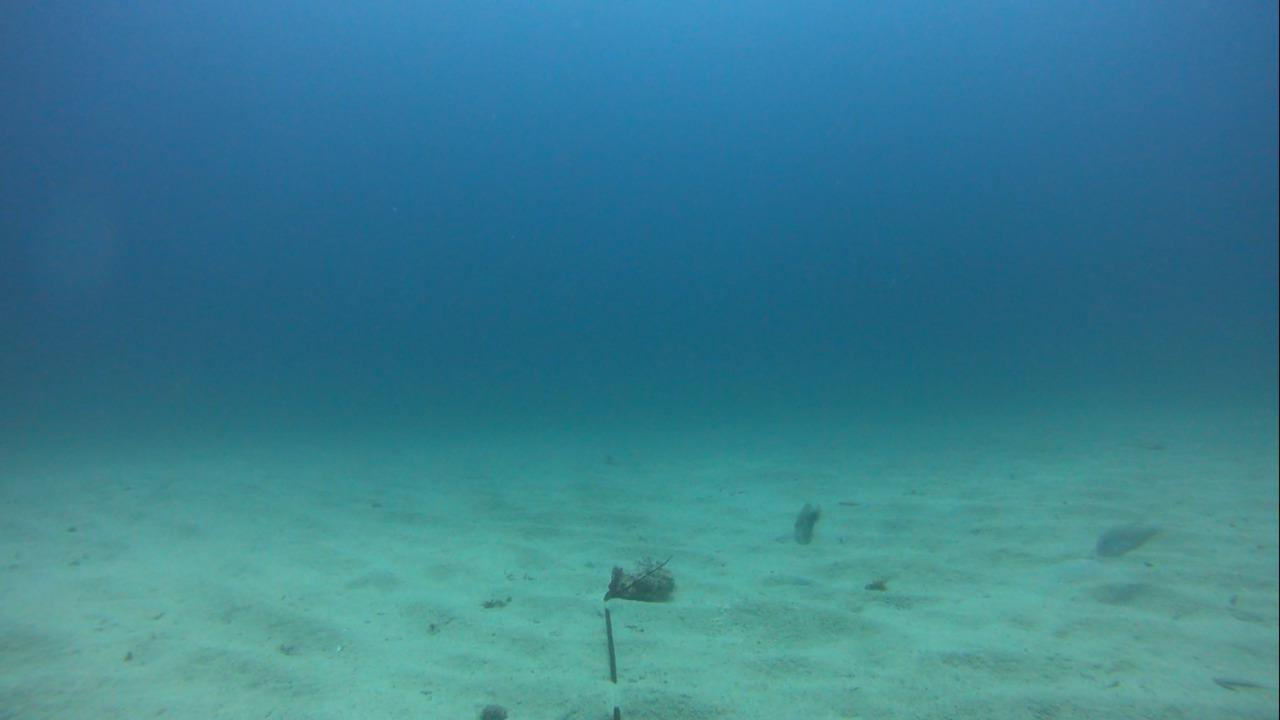raor: (1086, 520, 1163, 560), (784, 497, 824, 545)
